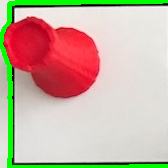Red Castle: (2, 12, 102, 102)
